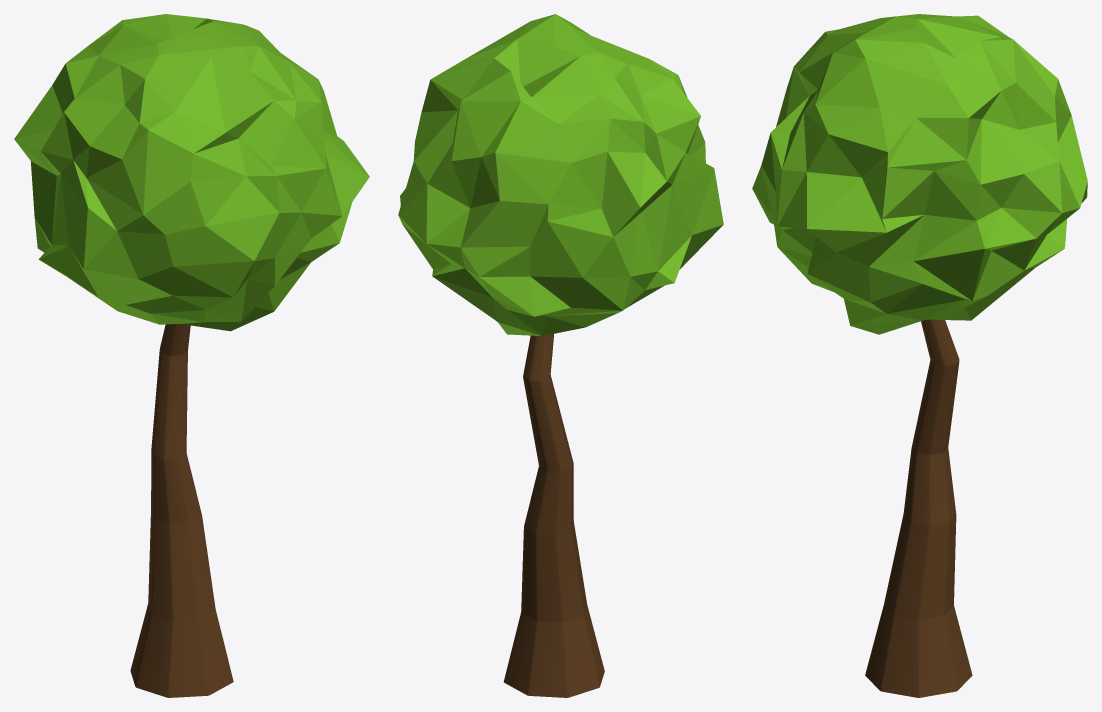
The model's file is Tree3_Normal (1).fbx.
3 renders of one model, left to right at view 1: azimuth 30°, elevation 25°; view 2: azimuth 150°, elevation 25°; view 3: azimuth 270°, elevation 25°, orthographic. The views are drawn at different scales.
Visible parts, largest first — view 1: Baum3_Normal; view 2: Baum3_Normal; view 3: Baum3_Normal.
Boxes of the visible parts, box(x1,y1,x2,y2) form: Baum3_Normal: box(14, 14, 369, 697); Baum3_Normal: box(398, 14, 723, 697); Baum3_Normal: box(752, 14, 1087, 697).
Size of the model in its own units: 261 by 572 by 267.
